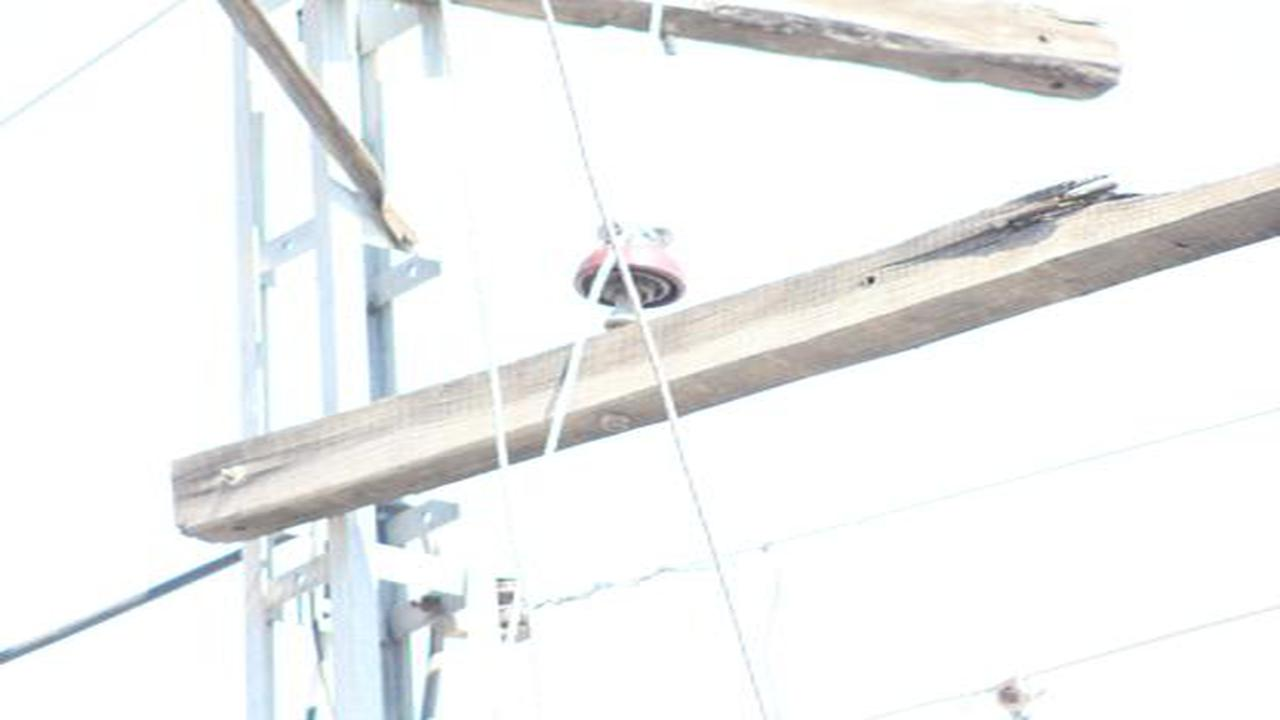insulator_pin: (571, 213, 687, 308)
